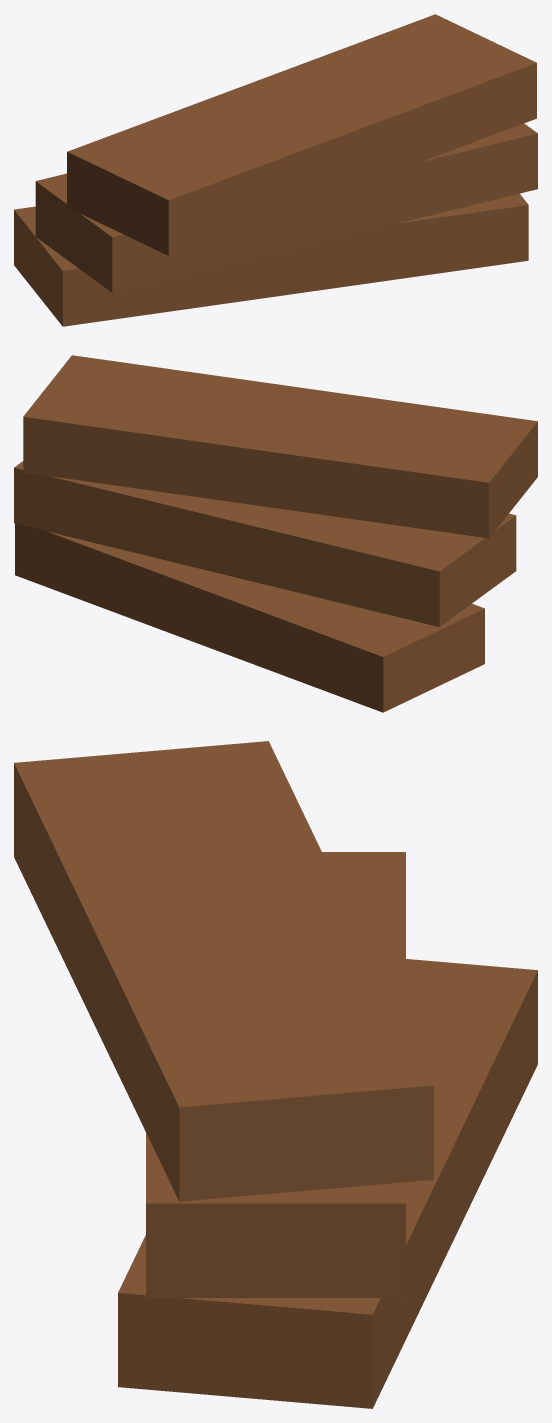
The model's file is good-brittle.glb.
The picture shows the model from 3 angles, top to bottom: view 1: azimuth 30°, elevation 25°; view 2: azimuth 150°, elevation 25°; view 3: azimuth 270°, elevation 25°; orthographic projection. The views are drawn at different scales.
Visible parts, largest first — view 1: #8a5a34; view 2: #8a5a34; view 3: #8a5a34.
Part boxes in pixels (x1,y1,x2,y2): #8a5a34: (14,14,537,326); #8a5a34: (14,355,537,712); #8a5a34: (14,741,537,1408).
Bounding box in the file's own units: 0.1667 × 0.064 × 0.1008.
